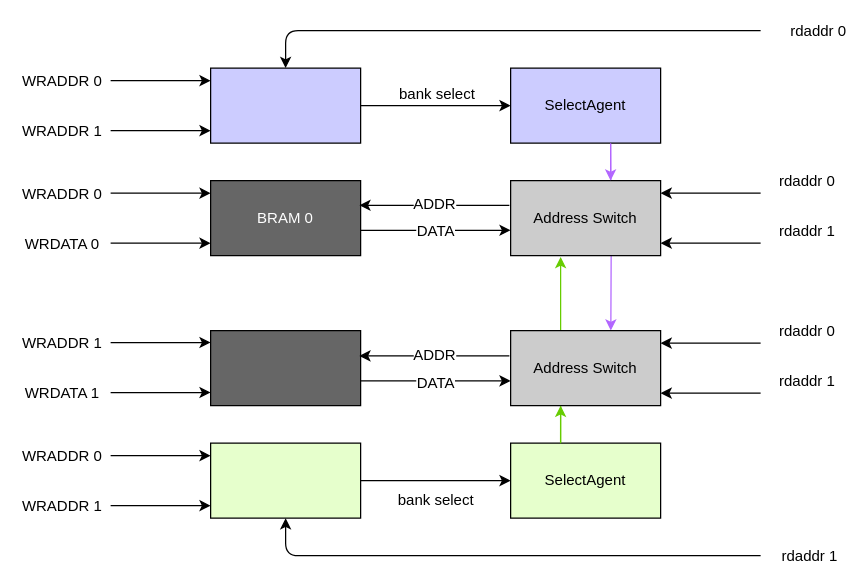
Some shapes in this 866 by 588 pixel diagram are drawn without their labels. The centre of each missing label's shape, as x and y in pixels:
"Accounter Agent 0" belongs at (x=285, y=105).
"Accounter Agent 1" belongs at (x=285, y=480).
"BRAM 1" belongs at (x=285, y=367).
